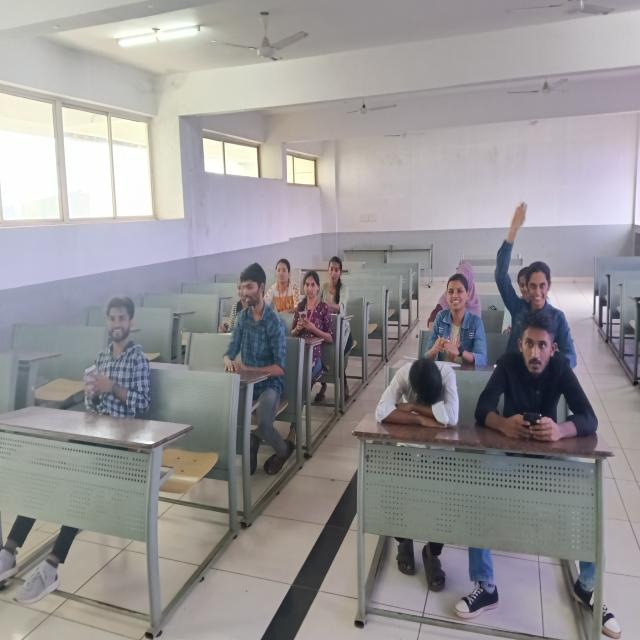Hand Rising: (490, 176, 584, 354)
Sleeping: (352, 328, 469, 466)
Using Phone: (474, 288, 605, 454), (281, 249, 355, 376)
